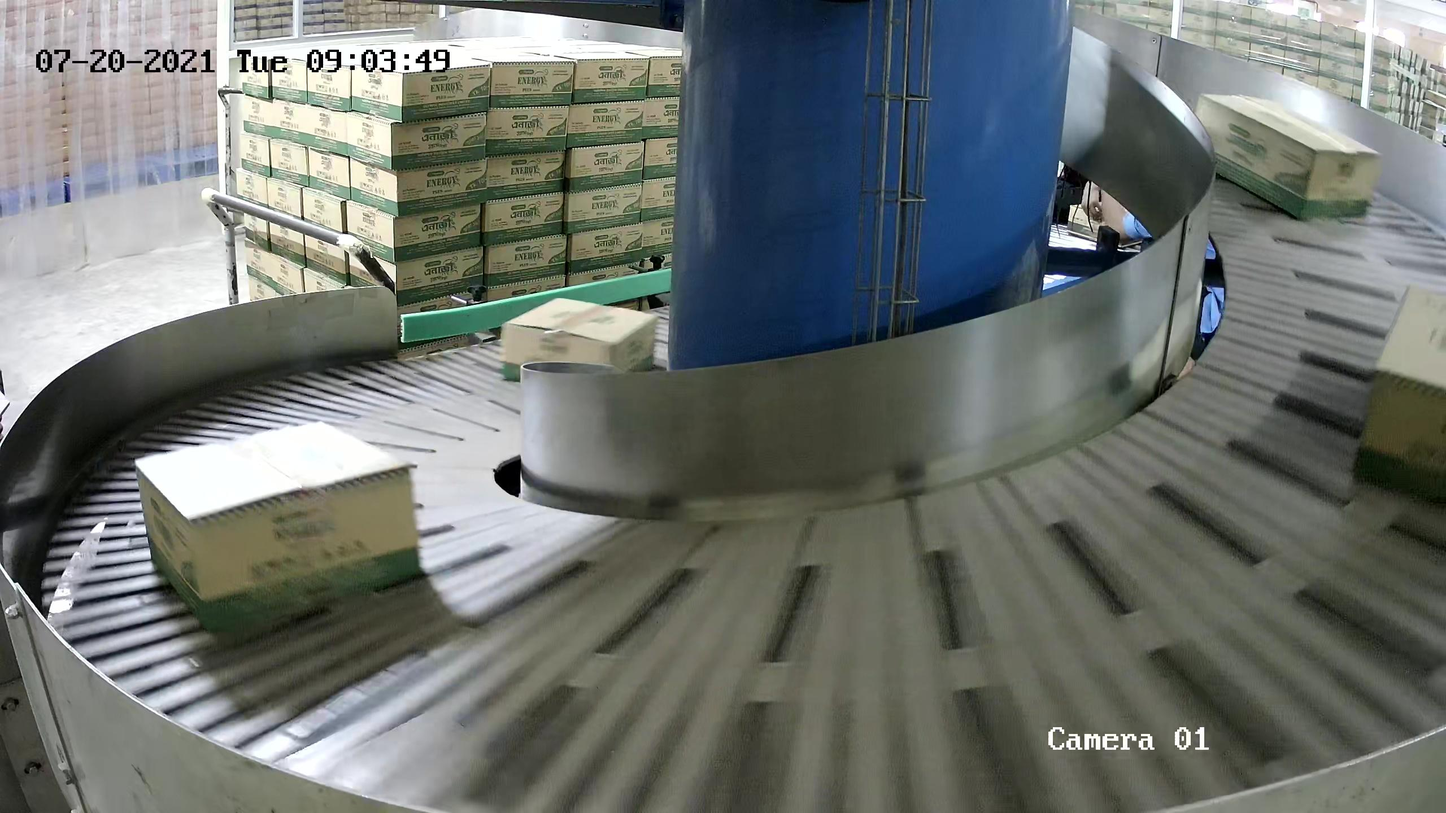Box: (133, 417, 426, 630), (1190, 89, 1383, 225), (1352, 275, 1446, 492), (499, 295, 660, 385)
